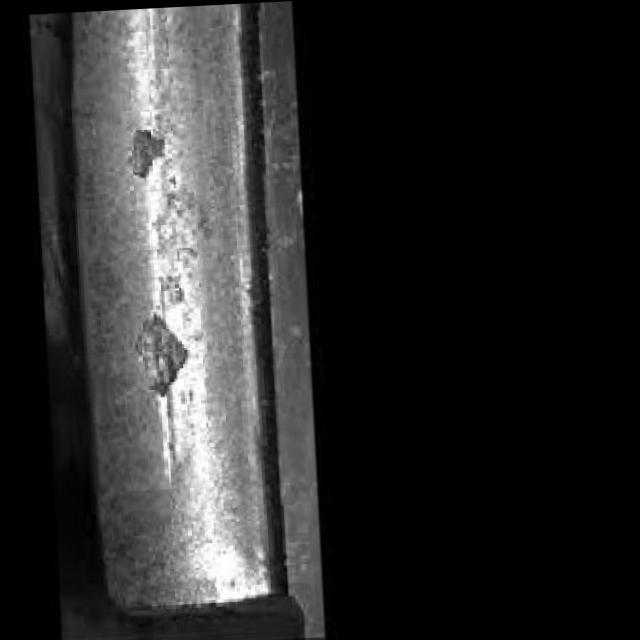defective: (21, 0, 382, 640)
